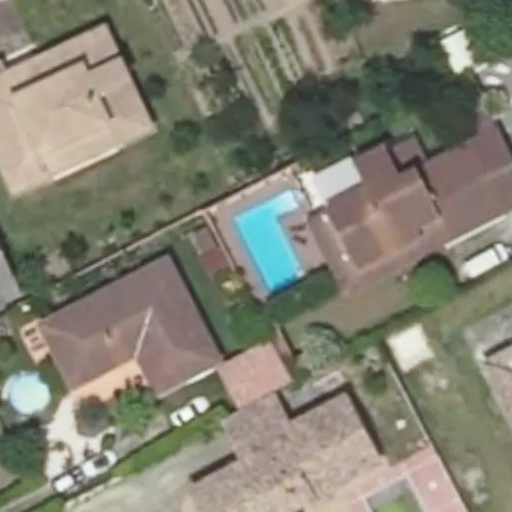pool: (234, 189, 304, 295)
